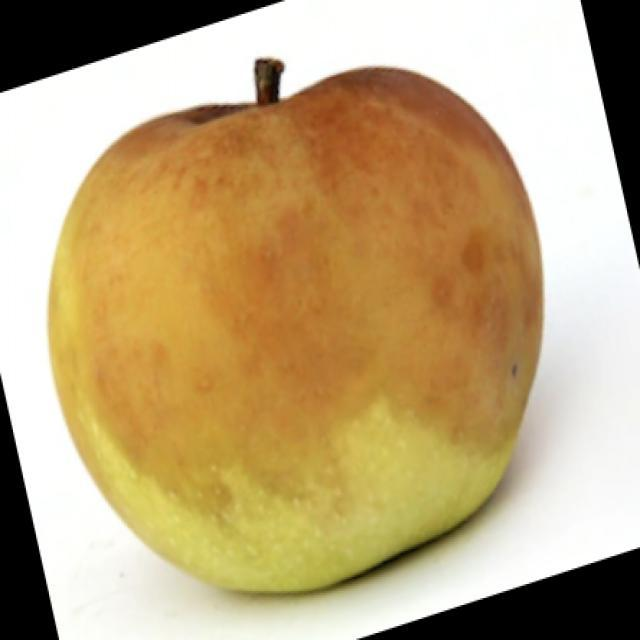Rotten: (54, 70, 528, 573)
